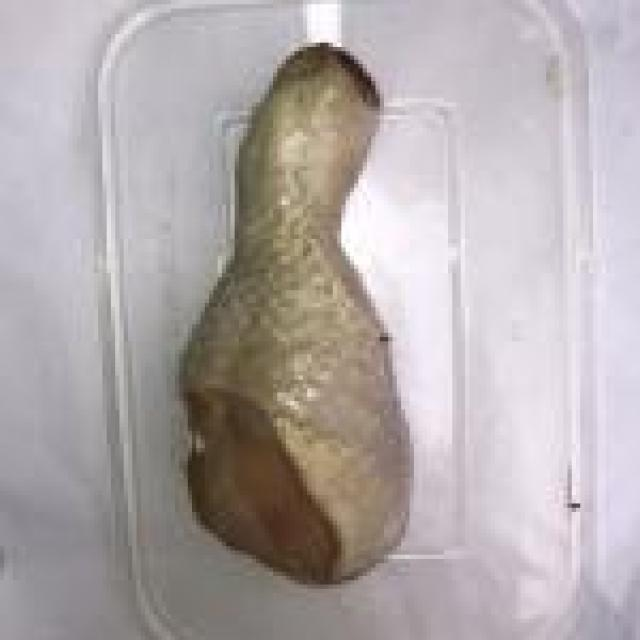leg: (176, 40, 428, 577)
